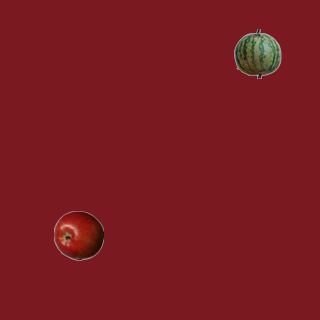Apple Braeburn: (53, 210, 103, 260)
Watermelon: (232, 28, 282, 78)
